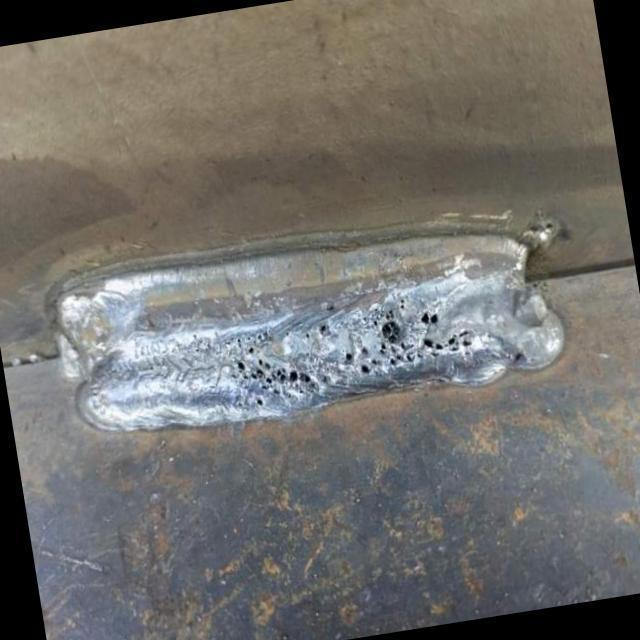defect: (340, 299, 481, 379), (230, 340, 323, 410), (311, 320, 333, 342)
